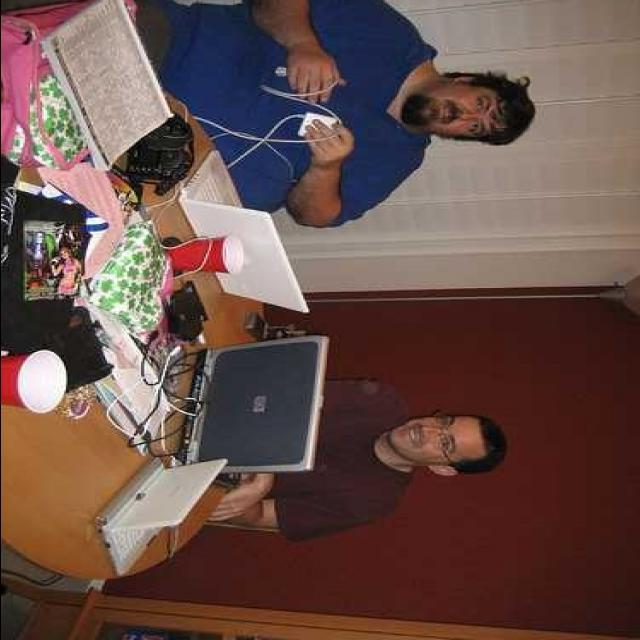laptop: (179, 316, 328, 492), (167, 154, 313, 304), (68, 445, 199, 564)
